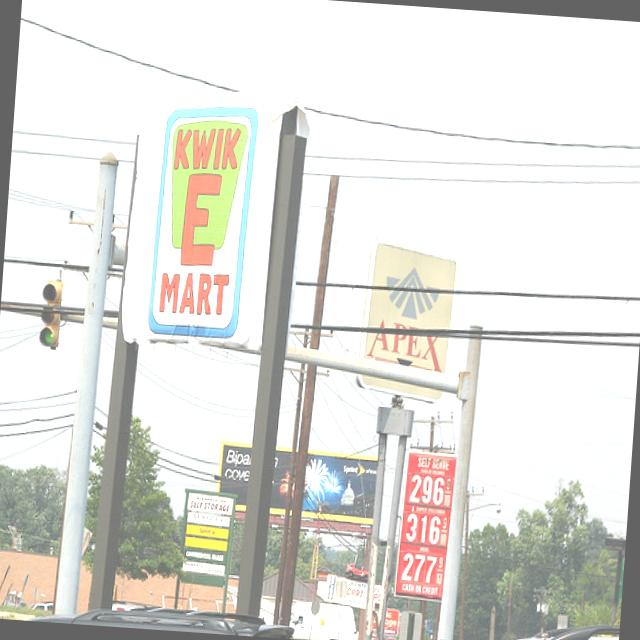Vehicle: (0, 593, 309, 640), (456, 613, 619, 640), (287, 600, 360, 640)
